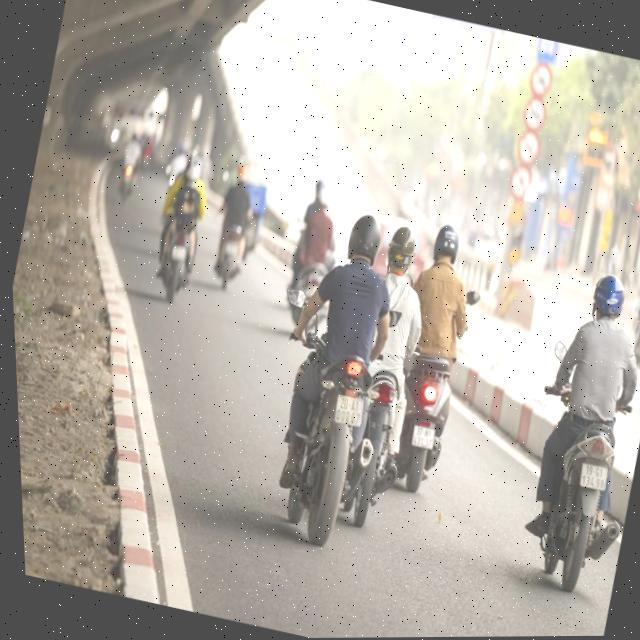motorcycle: (251, 310, 425, 555), (499, 385, 640, 606), (365, 346, 472, 515), (133, 194, 216, 311), (198, 207, 260, 299), (399, 405, 447, 462)
plate: (326, 386, 372, 432), (571, 455, 616, 495), (403, 418, 443, 453)
